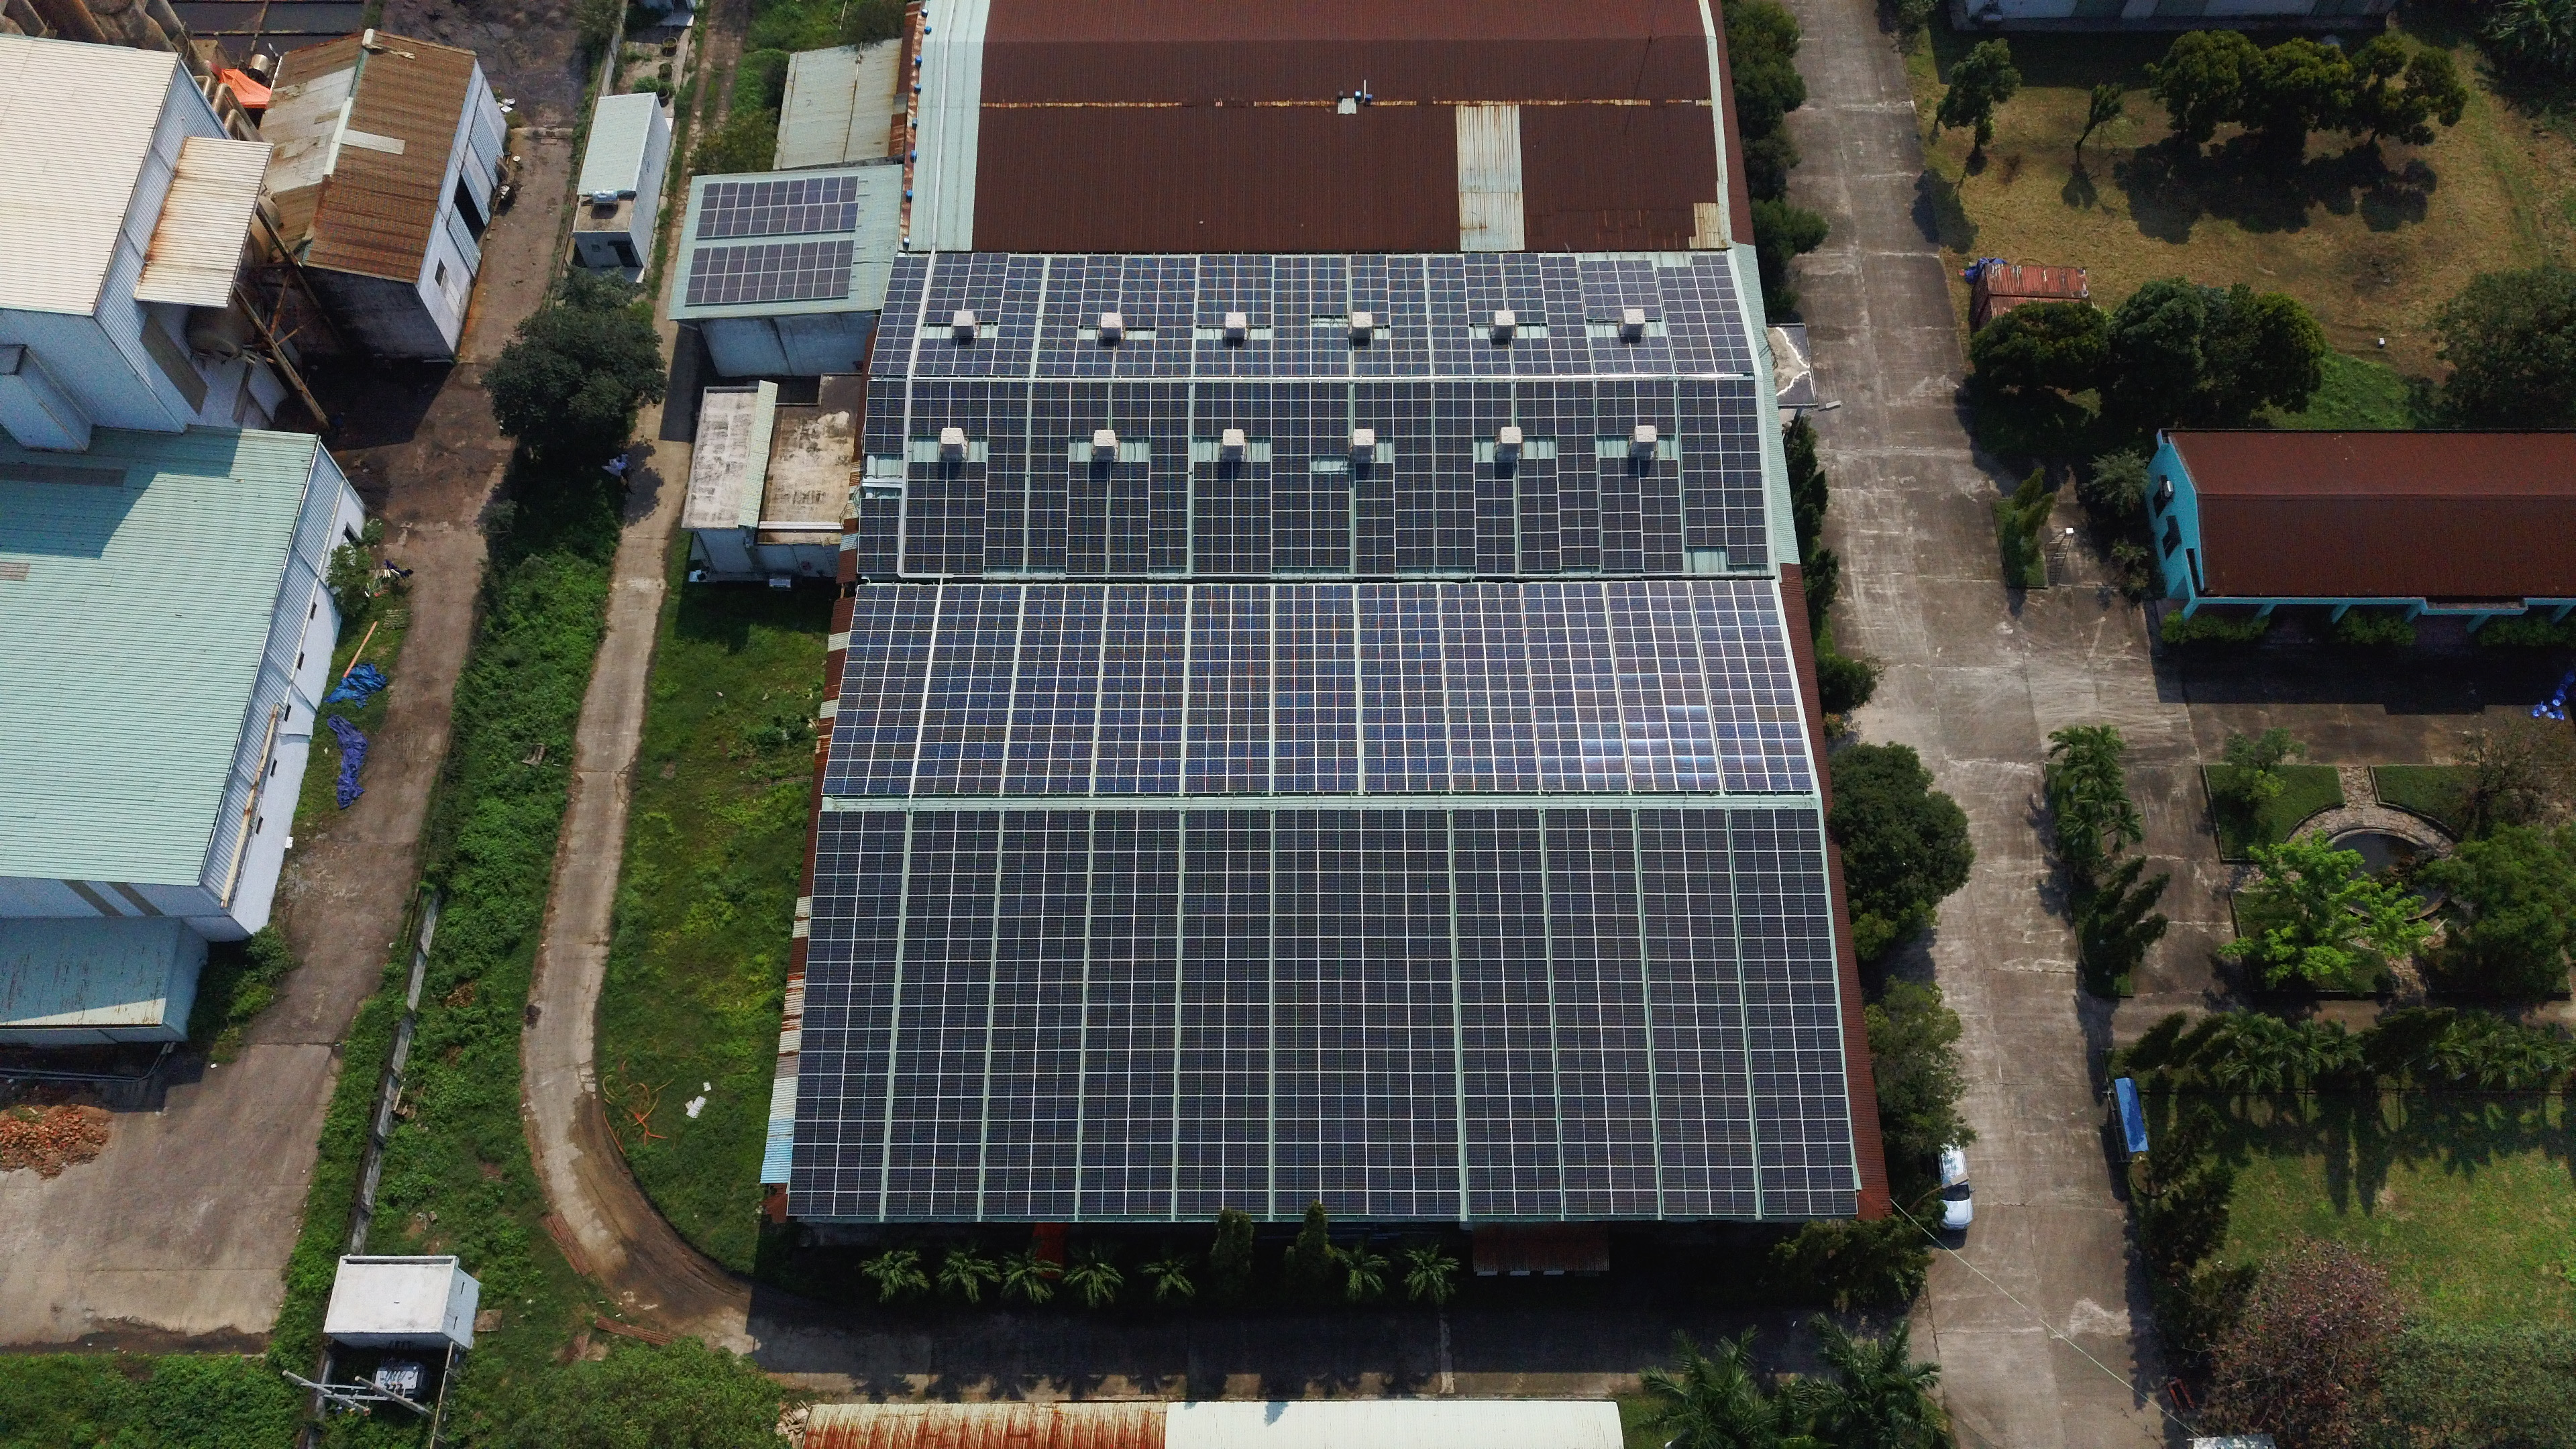solar: (1221, 1118, 1270, 1146), (1272, 1139, 1322, 1168), (1272, 1166, 1322, 1194), (1272, 1189, 1322, 1217), (1364, 1141, 1414, 1169), (1410, 1164, 1460, 1192), (1559, 1093, 1608, 1122), (1560, 1141, 1610, 1169), (801, 961, 853, 987), (839, 1072, 890, 1099), (833, 1143, 885, 1169), (833, 1166, 885, 1192), (1801, 1141, 1852, 1168), (1805, 1166, 1856, 1192), (1806, 1189, 1858, 1215), (1123, 1166, 1171, 1194), (1221, 1093, 1269, 1122), (1412, 1141, 1460, 1169), (1412, 1189, 1460, 1217), (809, 895, 858, 922), (805, 938, 855, 964), (801, 982, 851, 1008), (796, 1049, 846, 1076), (794, 1072, 844, 1099), (789, 1143, 839, 1169), (786, 1189, 835, 1215), (886, 1143, 936, 1169), (938, 1026, 987, 1053), (932, 1141, 982, 1168), (985, 1095, 1035, 1122), (984, 1118, 1033, 1145), (982, 1143, 1031, 1169), (980, 1164, 1030, 1191), (1028, 1189, 1077, 1215), (1175, 1095, 1224, 1122), (1177, 1116, 1226, 1143), (1175, 1141, 1224, 1168), (1175, 1164, 1224, 1191), (1175, 1191, 1224, 1217), (1362, 1070, 1412, 1097), (1364, 1095, 1414, 1122), (1362, 1118, 1412, 1145), (1366, 1166, 1415, 1192), (1453, 869, 1502, 895), (1460, 1049, 1509, 1076), (1465, 1164, 1514, 1191), (1467, 1189, 1516, 1215), (1552, 1001, 1601, 1028), (1555, 1024, 1605, 1051), (1555, 1047, 1605, 1074), (1557, 1070, 1606, 1097), (1559, 1116, 1608, 1143), (1560, 1162, 1610, 1189), (1560, 1189, 1610, 1215), (1658, 1143, 1707, 1169), (1760, 1189, 1810, 1215), (1796, 1072, 1845, 1099), (796, 1028, 847, 1053), (846, 961, 897, 985), (846, 982, 897, 1007), (842, 1028, 893, 1053), (840, 1049, 892, 1074), (837, 1097, 888, 1122), (835, 1122, 886, 1146), (832, 1191, 883, 1215), (1504, 1049, 1555, 1074), (1656, 1120, 1707, 1145), (1660, 1166, 1711, 1191), (1750, 1072, 1801, 1097), (1759, 1166, 1810, 1191), (1798, 1095, 1849, 1120), (888, 1118, 936, 1145), (885, 1164, 932, 1191), (934, 1118, 982, 1145), (931, 1166, 978, 1192), (998, 849, 1046, 876), (993, 936, 1040, 962), (1083, 1047, 1131, 1074), (1081, 1093, 1129, 1120), (1079, 1141, 1127, 1168), (1079, 1166, 1127, 1192), (1123, 1189, 1171, 1215), (1223, 1001, 1270, 1028), (1221, 1141, 1269, 1168), (1221, 1166, 1269, 1192), (1221, 1189, 1269, 1215), (1270, 913, 1318, 939), (1272, 934, 1320, 961), (1270, 957, 1318, 984), (1272, 1001, 1320, 1028), (1272, 1116, 1320, 1143), (1316, 980, 1364, 1007), (1316, 1024, 1364, 1051), (1318, 1118, 1366, 1145), (1320, 1164, 1368, 1191), (1318, 1189, 1366, 1215), (1366, 1191, 1414, 1217), (1405, 913, 1453, 939), (1405, 957, 1453, 984), (1407, 1003, 1454, 1030), (1451, 892, 1499, 918), (1460, 1024, 1507, 1051), (1463, 1070, 1511, 1097), (1465, 1141, 1513, 1168), (1789, 982, 1836, 1008), (810, 851, 860, 876), (810, 874, 860, 899), (807, 916, 856, 941), (798, 1007, 847, 1031), (791, 1095, 840, 1120), (791, 1118, 840, 1143), (787, 1166, 837, 1191), (853, 895, 902, 920), (851, 916, 901, 941), (849, 938, 899, 962), (844, 1005, 893, 1030), (892, 1049, 941, 1074), (938, 1049, 987, 1074), (931, 1191, 980, 1215), (985, 1074, 1035, 1099), (982, 1191, 1031, 1215), (1033, 1026, 1083, 1051), (1033, 1049, 1083, 1074), (1031, 1070, 1081, 1095), (1030, 1118, 1079, 1143), (1030, 1143, 1079, 1168), (1028, 1166, 1077, 1191), (1449, 828, 1499, 853), (1454, 913, 1504, 938), (1454, 936, 1504, 961), (1499, 936, 1548, 961), (1504, 1026, 1553, 1051), (1507, 1070, 1557, 1095), (1507, 1095, 1557, 1120), (1509, 1118, 1559, 1143), (1511, 1143, 1560, 1168), (1513, 1166, 1562, 1191), (1513, 1189, 1562, 1214), (1652, 1072, 1702, 1097), (1656, 1095, 1706, 1120), (1661, 1191, 1711, 1215), (1748, 1028, 1798, 1053), (1755, 1118, 1805, 1143), (1757, 1143, 1806, 1168), (1776, 870, 1826, 895), (1783, 936, 1833, 961), (1785, 959, 1835, 984), (1801, 1120, 1851, 1145), (993, 959, 1039, 985), (991, 1026, 1037, 1053), (1272, 1095, 1318, 1122), (1316, 1001, 1362, 1028), (1318, 1047, 1364, 1074), (1320, 1141, 1366, 1168), (899, 961, 947, 985), (897, 982, 945, 1007), (893, 1028, 941, 1053), (892, 1074, 939, 1099), (890, 1097, 938, 1122), (883, 1191, 931, 1215), (938, 1074, 985, 1099), (936, 1095, 984, 1120), (1000, 830, 1047, 855), (998, 872, 1046, 897), (996, 916, 1044, 941), (991, 982, 1039, 1007), (989, 1005, 1037, 1030), (987, 1049, 1035, 1074), (1081, 1072, 1129, 1097), (1079, 1118, 1127, 1143), (1077, 1191, 1125, 1215), (1127, 1049, 1175, 1074), (1127, 1072, 1175, 1097), (1127, 1093, 1175, 1118), (1125, 1118, 1173, 1143), (1125, 1141, 1173, 1166), (1178, 1024, 1226, 1049), (1178, 1047, 1226, 1072), (1223, 957, 1270, 982), (1224, 980, 1272, 1005), (1224, 1026, 1272, 1051), (1223, 1049, 1270, 1074), (1223, 1070, 1270, 1095), (1272, 980, 1320, 1005), (1272, 1047, 1320, 1072), (1270, 1070, 1318, 1095), (1316, 957, 1364, 982), (1318, 1072, 1366, 1097), (1318, 1093, 1366, 1118), (1362, 1003, 1410, 1028), (1405, 936, 1453, 961), (1405, 980, 1453, 1005), (1407, 1026, 1454, 1051), (1408, 1047, 1456, 1072), (1408, 1072, 1456, 1097), (1410, 1095, 1458, 1120), (1410, 1118, 1458, 1143), (1451, 849, 1499, 874), (1456, 957, 1504, 982), (1458, 980, 1506, 1005), (1458, 1003, 1506, 1028), (1463, 1097, 1511, 1122), (1463, 1118, 1511, 1143), (1499, 913, 1546, 938), (1548, 913, 1596, 938), (1548, 936, 1596, 961), (1552, 957, 1599, 982), (1552, 980, 1599, 1005), (1594, 936, 1642, 961), (1596, 957, 1644, 982), (1596, 980, 1644, 1005), (1598, 1003, 1645, 1028), (1601, 1049, 1649, 1074), (1603, 1095, 1651, 1120), (1606, 1141, 1654, 1166), (1610, 1164, 1658, 1189), (1610, 1189, 1658, 1214), (1644, 915, 1691, 939), (1645, 936, 1693, 961), (1645, 957, 1693, 982), (1647, 980, 1695, 1005), (1649, 1005, 1697, 1030), (1652, 1049, 1700, 1074), (1697, 1028, 1744, 1053), (1698, 1049, 1746, 1074), (1700, 1072, 1748, 1097), (1704, 1118, 1752, 1143), (1706, 1143, 1753, 1168), (1706, 1166, 1753, 1191), (1707, 1191, 1755, 1215), (1780, 893, 1828, 918), (1782, 913, 1829, 938), (1790, 1003, 1838, 1028), (1792, 1026, 1840, 1051), (1796, 1051, 1844, 1076), (1736, 916, 1787, 939), (1741, 959, 1792, 982), (1743, 982, 1794, 1005), (1748, 1051, 1799, 1074), (1752, 1095, 1803, 1118), (816, 810, 865, 833), (814, 832, 863, 855), (858, 810, 908, 833), (858, 832, 908, 855), (855, 874, 904, 897), (909, 810, 959, 833), (908, 830, 957, 853), (904, 853, 954, 876), (904, 874, 954, 897), (902, 893, 952, 916), (952, 810, 1001, 833), (952, 830, 1001, 853), (950, 872, 1000, 895), (947, 895, 996, 918), (945, 938, 994, 961), (943, 962, 993, 985), (941, 984, 991, 1007), (941, 1005, 991, 1028), (996, 893, 1042, 918), (1035, 959, 1085, 982), (1035, 982, 1085, 1005), (1035, 1005, 1085, 1028), (1031, 1097, 1081, 1120), (1088, 892, 1134, 916), (1088, 915, 1134, 939), (1086, 936, 1132, 961), (1086, 959, 1132, 984), (1085, 982, 1131, 1007), (1085, 1005, 1131, 1030), (1085, 1026, 1131, 1051), (1180, 936, 1226, 961), (1180, 1003, 1226, 1028), (1272, 1024, 1318, 1049), (1361, 936, 1410, 959), (1361, 980, 1410, 1003), (1362, 1049, 1412, 1072), (1594, 913, 1640, 938), (1652, 1026, 1698, 1051), (1702, 1093, 1748, 1118), (1734, 893, 1783, 916), (1739, 938, 1789, 961), (1744, 1005, 1794, 1028), (1403, 738, 1451, 761), (1536, 754, 1583, 777), (1537, 771, 1585, 794), (902, 916, 950, 939), (899, 938, 947, 961), (897, 1007, 945, 1030), (947, 916, 994, 939), (1001, 810, 1049, 833), (1040, 874, 1088, 897), (1039, 938, 1086, 961), (1092, 809, 1139, 832), (1129, 982, 1177, 1005), (1127, 1026, 1175, 1049), (1182, 810, 1230, 833), (1180, 893, 1228, 916), (1178, 982, 1226, 1005), (1177, 1072, 1224, 1095), (1224, 830, 1272, 853), (1223, 893, 1270, 916), (1315, 872, 1362, 895), (1359, 828, 1407, 851), (1361, 893, 1408, 916), (1361, 915, 1408, 938), (1361, 961, 1408, 984), (1362, 1026, 1410, 1049), (1403, 872, 1451, 895), (1405, 893, 1453, 916), (1497, 893, 1545, 916), (1500, 959, 1548, 982), (1500, 982, 1548, 1005), (1504, 1005, 1552, 1028), (1545, 849, 1592, 872), (1546, 892, 1594, 915), (1587, 849, 1635, 872), (1592, 893, 1640, 916), (1599, 1026, 1647, 1049), (1603, 1074, 1651, 1097), (1605, 1120, 1652, 1143), (1638, 851, 1686, 874), (1640, 870, 1688, 893), (1732, 849, 1780, 872), (1044, 830, 1090, 853), (1039, 915, 1085, 938), (1092, 830, 1138, 853), (1132, 938, 1178, 961), (1182, 830, 1228, 853), (1182, 851, 1228, 874), (1180, 870, 1226, 893), (1180, 915, 1226, 938), (1180, 957, 1226, 980), (1226, 849, 1272, 872), (1274, 872, 1320, 895), (1272, 893, 1318, 916), (1316, 830, 1362, 853), (1316, 849, 1362, 872), (1318, 893, 1364, 916), (1318, 938, 1364, 961), (1361, 851, 1407, 874), (1361, 874, 1407, 897), (1638, 830, 1684, 853), (1642, 893, 1688, 916), (1688, 893, 1734, 916), (1690, 938, 1736, 961), (1691, 959, 1737, 982), (1695, 1003, 1741, 1026), (1730, 830, 1776, 853), (1775, 830, 1821, 853), (1474, 494, 1516, 518), (1718, 752, 1767, 773), (1721, 771, 1771, 793), (1764, 771, 1813, 793), (855, 853, 904, 874), (950, 853, 1000, 874), (1405, 755, 1453, 777), (1629, 773, 1677, 794), (1707, 686, 1755, 708), (1711, 704, 1759, 725), (1713, 720, 1760, 741), (1716, 738, 1764, 759), (1752, 704, 1799, 725), (1762, 754, 1810, 775), (1044, 810, 1092, 832), (1044, 853, 1092, 874), (1040, 895, 1088, 916), (1090, 851, 1138, 872), (1088, 872, 1136, 893), (1134, 809, 1182, 830), (1132, 830, 1180, 851), (1132, 853, 1180, 874), (1132, 872, 1180, 893), (1224, 809, 1272, 830), (1224, 872, 1272, 893), (1224, 915, 1272, 936), (1224, 938, 1272, 959), (1272, 810, 1320, 832), (1272, 830, 1320, 851), (1315, 809, 1362, 830), (1316, 916, 1364, 938), (1359, 809, 1407, 830), (1449, 809, 1497, 830), (1493, 809, 1541, 830), (1495, 851, 1543, 872), (1497, 872, 1545, 893), (1543, 809, 1591, 830), (1546, 872, 1594, 893), (1585, 809, 1633, 830), (1587, 828, 1635, 849), (1637, 809, 1684, 830), (1679, 809, 1727, 830), (1686, 872, 1734, 893), (1688, 916, 1736, 938), (1729, 809, 1776, 830), (1776, 851, 1824, 872), (908, 396, 950, 419), (856, 533, 899, 556), (855, 552, 897, 575), (904, 460, 947, 483), (947, 416, 989, 439), (941, 552, 984, 575), (985, 416, 1028, 439), (1028, 396, 1070, 419), (1024, 525, 1067, 548), (1069, 398, 1111, 421), (1069, 416, 1111, 439), (1065, 533, 1108, 556), (1065, 552, 1108, 575), (1108, 416, 1150, 439), (1108, 460, 1150, 483), (1146, 416, 1189, 439), (1146, 471, 1189, 494), (1146, 508, 1189, 531), (1145, 525, 1187, 548), (1191, 396, 1233, 419), (1191, 416, 1233, 439), (1191, 550, 1233, 573), (1230, 380, 1272, 403), (1230, 398, 1272, 421), (1231, 416, 1274, 439), (1230, 513, 1272, 536), (1270, 508, 1313, 531), (1270, 527, 1313, 550), (1307, 380, 1350, 403), (1307, 398, 1350, 421), (1307, 433, 1350, 456), (1309, 508, 1352, 531), (1309, 527, 1352, 550), (1352, 478, 1394, 501), (1353, 497, 1396, 520), (1353, 515, 1396, 538), (1353, 533, 1396, 556), (1472, 396, 1514, 419), (1474, 515, 1516, 538), (1474, 552, 1516, 575), (1557, 471, 1599, 494), (1557, 488, 1599, 511), (1559, 508, 1601, 531), (915, 757, 961, 778), (911, 773, 957, 794), (1529, 656, 1575, 678), (1529, 672, 1575, 694), (1622, 720, 1668, 741), (1628, 755, 1674, 777), (1672, 755, 1718, 777), (1737, 623, 1783, 644), (1744, 655, 1790, 676), (1757, 720, 1803, 741), (1132, 895, 1178, 916), (1132, 918, 1178, 939), (1131, 959, 1177, 980), (1129, 1005, 1175, 1026), (1272, 851, 1318, 872), (1403, 809, 1449, 830), (1403, 830, 1449, 851), (1405, 851, 1451, 872), (1495, 830, 1541, 851), (1545, 830, 1591, 851), (1591, 872, 1637, 893), (1683, 830, 1729, 851), (1684, 851, 1730, 872), (1693, 982, 1739, 1003), (1736, 872, 1782, 893), (1773, 809, 1819, 830), (823, 759, 872, 778), (819, 777, 869, 796), (1757, 738, 1806, 757), (1228, 612, 1272, 633), (1226, 642, 1270, 663), (1228, 658, 1272, 679), (1226, 740, 1270, 761), (1525, 626, 1569, 648), (989, 396, 1030, 419), (984, 488, 1024, 511), (1028, 433, 1069, 456), (1028, 490, 1069, 513), (1109, 380, 1150, 403), (1111, 398, 1152, 421), (1108, 534, 1148, 557), (1148, 380, 1189, 403), (1231, 533, 1272, 556), (1270, 416, 1311, 439), (1270, 471, 1311, 494), (1270, 545, 1311, 568), (1309, 490, 1350, 513), (1309, 545, 1350, 568), (1353, 396, 1394, 419), (1353, 418, 1394, 441), (1353, 460, 1394, 483), (1355, 554, 1396, 577), (1392, 398, 1433, 421), (1392, 416, 1433, 439), (1394, 490, 1435, 513), (1394, 527, 1435, 550), (1433, 396, 1474, 419), (1433, 416, 1474, 439), (1433, 471, 1474, 494), (1435, 508, 1476, 531), (1435, 525, 1476, 548), (1437, 545, 1477, 568), (1476, 534, 1516, 557), (1514, 396, 1555, 419), (1560, 527, 1601, 550), (1683, 469, 1723, 492), (837, 676, 885, 695), (835, 692, 883, 711), (826, 741, 874, 761), (863, 775, 911, 794), (1449, 757, 1497, 777), (1583, 773, 1631, 793), (1658, 672, 1706, 692), (1674, 773, 1721, 793), (908, 379, 950, 400), (862, 433, 904, 455), (908, 418, 950, 439), (858, 497, 901, 518), (856, 515, 899, 536), (904, 478, 947, 499), (904, 497, 947, 518), (904, 515, 947, 536), (902, 536, 945, 557), (902, 554, 945, 575), (945, 460, 987, 481), (945, 479, 987, 501), (943, 497, 985, 518), (943, 517, 985, 538), (943, 534, 985, 556), (948, 379, 991, 400), (985, 433, 1028, 455), (985, 453, 1028, 474), (984, 527, 1026, 548), (982, 545, 1024, 566), (1026, 453, 1069, 474), (1026, 508, 1069, 529), (1024, 547, 1067, 568), (1069, 380, 1111, 402), (1067, 460, 1109, 481), (1065, 478, 1108, 499), (1065, 495, 1108, 517), (1065, 515, 1108, 536), (1108, 478, 1150, 499), (1106, 517, 1148, 538), (1148, 398, 1191, 419), (1148, 435, 1191, 456), (1146, 453, 1189, 474), (1146, 490, 1189, 511), (1192, 460, 1235, 481), (1192, 495, 1235, 517), (1191, 515, 1233, 536), (1191, 534, 1233, 556), (1231, 478, 1274, 499), (1230, 552, 1272, 573), (1270, 380, 1313, 402), (1269, 435, 1311, 456), (1307, 418, 1350, 439), (1518, 494, 1560, 515), (1555, 453, 1598, 474), (1599, 492, 1642, 513), (1601, 511, 1644, 533), (1601, 548, 1644, 570), (1640, 533, 1683, 554), (1683, 488, 1725, 510), (1684, 525, 1727, 547), (1716, 395, 1759, 416), (1716, 414, 1759, 435), (1718, 432, 1760, 453), (1720, 451, 1762, 472), (1721, 469, 1764, 490), (1723, 506, 1766, 527), (1725, 525, 1767, 547), (1230, 596, 1272, 617), (865, 377, 904, 400), (1394, 433, 1433, 456), (1394, 453, 1433, 476), (1433, 379, 1472, 402), (1433, 435, 1472, 458), (1435, 451, 1474, 474), (1435, 490, 1474, 513), (846, 630, 892, 649), (840, 660, 886, 679), (830, 725, 876, 745), (885, 644, 931, 663), (927, 660, 973, 679), (920, 708, 966, 727), (918, 724, 964, 743), (916, 741, 962, 761), (966, 676, 1012, 695), (964, 692, 1010, 711), (959, 741, 1005, 761), (1021, 582, 1067, 602), (1019, 598, 1065, 617), (1014, 660, 1060, 679), (1046, 757, 1092, 777), (1104, 582, 1150, 602), (1143, 584, 1189, 603), (1143, 598, 1189, 617), (1143, 628, 1189, 648), (1407, 773, 1453, 793), (1449, 738, 1495, 757), (1451, 775, 1497, 794), (1490, 740, 1536, 759), (1522, 610, 1568, 630), (1530, 688, 1576, 708), (1532, 706, 1578, 725), (1534, 722, 1580, 741), (1536, 738, 1582, 757), (1575, 706, 1621, 725), (1582, 754, 1628, 773), (1614, 656, 1660, 676), (1615, 672, 1661, 692), (1619, 688, 1665, 708), (1621, 706, 1667, 725), (1626, 738, 1672, 757), (1663, 704, 1709, 724), (1704, 655, 1750, 674), (1706, 672, 1752, 692), (1729, 579, 1775, 598), (1741, 640, 1787, 660), (1746, 672, 1792, 692), (1750, 688, 1796, 708), (950, 380, 991, 402), (989, 379, 1030, 400), (985, 471, 1026, 492), (984, 508, 1024, 529), (1030, 380, 1070, 402), (1028, 416, 1069, 437), (1026, 472, 1067, 494), (1108, 495, 1148, 517), (1106, 552, 1146, 573), (1192, 380, 1233, 402), (1192, 478, 1233, 499), (1231, 460, 1272, 481), (1231, 497, 1272, 518), (1270, 398, 1311, 419), (1272, 455, 1313, 476), (1270, 490, 1311, 511), (1309, 472, 1350, 494), (1353, 380, 1394, 402), (1392, 380, 1433, 402), (1392, 472, 1433, 494), (1394, 510, 1435, 531), (1396, 547, 1437, 568), (1472, 416, 1513, 437), (1474, 460, 1514, 481), (1474, 479, 1514, 501), (1516, 416, 1557, 437), (1516, 456, 1557, 478), (1518, 476, 1559, 497), (1518, 513, 1559, 534), (1520, 531, 1560, 552), (1520, 550, 1560, 571), (1555, 416, 1596, 437), (1560, 547, 1601, 568), (1635, 396, 1675, 418), (1644, 550, 1684, 571), (1677, 377, 1718, 398), (1716, 379, 1757, 400), (1727, 545, 1767, 566), (849, 614, 893, 633), (844, 644, 888, 663), (895, 582, 939, 602), (890, 614, 934, 633), (888, 628, 932, 648), (878, 692, 922, 711), (870, 741, 915, 761), (938, 584, 982, 603), (936, 614, 980, 633), (931, 644, 975, 663), (927, 676, 971, 695), (978, 582, 1023, 602), (977, 600, 1021, 619), (975, 614, 1019, 633), (971, 644, 1016, 663), (970, 658, 1014, 678), (957, 757, 1001, 777), (955, 775, 1000, 794), (1019, 614, 1063, 633), (1017, 628, 1062, 648), (1010, 692, 1054, 711), (1008, 724, 1053, 743), (1005, 741, 1049, 761), (1063, 582, 1108, 602), (1062, 596, 1106, 616), (1093, 775, 1138, 794), (1143, 614, 1187, 633), (1141, 644, 1185, 663), (1141, 660, 1185, 679), (1139, 674, 1184, 694), (1139, 692, 1184, 711), (1139, 708, 1184, 727), (1138, 724, 1182, 743), (1138, 741, 1182, 761), (1136, 757, 1180, 777), (1136, 775, 1180, 794), (1189, 582, 1233, 602), (1189, 596, 1233, 616), (1189, 614, 1233, 633), (1187, 628, 1231, 648), (1187, 644, 1231, 663), (1187, 660, 1231, 679), (1187, 676, 1231, 695), (1185, 692, 1230, 711), (1185, 708, 1230, 727), (1184, 724, 1228, 743), (1184, 740, 1228, 759), (1184, 757, 1228, 777), (1182, 773, 1226, 793), (1228, 584, 1272, 603), (1228, 628, 1272, 648), (1226, 676, 1270, 695), (1226, 692, 1270, 711), (1226, 724, 1270, 743), (1272, 628, 1316, 648), (1272, 692, 1316, 711), (1272, 740, 1316, 759), (1272, 757, 1316, 777), (1311, 628, 1355, 648), (1313, 706, 1357, 725), (1355, 596, 1399, 616), (1357, 642, 1401, 662), (1399, 658, 1444, 678), (1399, 674, 1444, 694), (1440, 612, 1484, 632), (1447, 722, 1491, 741), (1479, 612, 1523, 632), (1484, 672, 1529, 692), (1486, 690, 1530, 709), (1488, 706, 1532, 725), (1490, 722, 1534, 741), (1493, 755, 1537, 775), (1493, 773, 1537, 793), (1527, 640, 1571, 660), (1576, 722, 1621, 741), (1580, 738, 1624, 757), (1605, 580, 1649, 600), (1645, 580, 1690, 600), (1647, 594, 1691, 614), (1652, 625, 1697, 644), (1690, 579, 1734, 598), (1691, 594, 1736, 614), (1697, 625, 1741, 644), (1736, 609, 1780, 628), (832, 709, 879, 727), (1660, 688, 1707, 706), (867, 379, 906, 400), (865, 414, 904, 435), (1474, 380, 1513, 402), (1516, 379, 1555, 400), (1596, 398, 1635, 419), (1598, 458, 1640, 478), (1596, 476, 1638, 495), (1601, 531, 1644, 550), (1640, 476, 1679, 497), (1638, 495, 1681, 515), (1640, 513, 1683, 533), (1679, 414, 1718, 435), (1683, 451, 1721, 472), (1684, 508, 1727, 527), (1723, 488, 1766, 508), (1226, 706, 1269, 725), (1226, 757, 1269, 777), (1226, 773, 1269, 793), (1270, 596, 1313, 616), (1272, 612, 1315, 632), (1272, 642, 1315, 662), (1272, 706, 1315, 725), (1272, 724, 1315, 743), (1313, 582, 1355, 602), (1315, 674, 1357, 694), (1357, 580, 1399, 600), (1357, 612, 1399, 632), (1359, 674, 1401, 694), (1361, 722, 1403, 741), (1362, 738, 1405, 757), (1362, 755, 1405, 775), (1396, 582, 1438, 602), (1398, 612, 1440, 632), (1398, 626, 1440, 646), (1399, 642, 1442, 662), (1403, 706, 1445, 725), (1438, 580, 1481, 600), (1438, 596, 1481, 616), (1444, 640, 1486, 660), (1444, 658, 1486, 678), (1444, 674, 1486, 694), (1477, 580, 1520, 600), (1479, 596, 1522, 616), (1483, 630, 1525, 649), (1483, 642, 1525, 662), (1520, 580, 1562, 600), (1564, 610, 1606, 630), (1566, 628, 1608, 648), (1568, 642, 1610, 662), (1573, 672, 1615, 692), (1575, 690, 1617, 709), (851, 600, 897, 617), (892, 598, 938, 616), (883, 662, 929, 679), (879, 678, 925, 695), (876, 708, 922, 725), (867, 759, 913, 777), (924, 692, 970, 709), (962, 709, 1008, 727), (1104, 600, 1150, 617), (1401, 724, 1447, 741), (1610, 626, 1656, 644), (1656, 656, 1702, 674), (1667, 722, 1713, 740), (1668, 740, 1714, 757), (1700, 640, 1746, 658), (706, 241, 729, 276), (1146, 547, 1187, 566), (1553, 379, 1594, 398), (1553, 398, 1594, 418), (1555, 435, 1596, 455), (1596, 416, 1637, 435), (1635, 379, 1675, 398), (1637, 414, 1677, 433), (1677, 396, 1718, 416), (1679, 433, 1720, 453), (736, 271, 761, 303), (755, 271, 780, 303), (775, 269, 800, 301), (793, 269, 817, 301), (855, 584, 899, 602), (874, 725, 918, 743), (936, 598, 980, 616), (932, 630, 977, 648), (973, 630, 1017, 648), (961, 725, 1005, 743), (1016, 644, 1060, 662), (1012, 676, 1056, 694), (1008, 709, 1053, 727), (1003, 759, 1047, 777), (1003, 777, 1047, 794), (1060, 614, 1104, 632), (1058, 630, 1102, 648), (1058, 646, 1102, 663), (1054, 660, 1099, 678), (1054, 678, 1099, 695), (1054, 692, 1099, 709), (1051, 708, 1095, 725), (1051, 725, 1095, 743), (1049, 741, 1093, 759), (1046, 777, 1090, 794), (1104, 614, 1148, 632), (1102, 630, 1146, 648), (1100, 644, 1145, 662), (1100, 660, 1145, 678), (1099, 676, 1143, 694), (1099, 694, 1143, 711), (1097, 709, 1141, 727), (1095, 741, 1139, 759), (1093, 759, 1138, 777), (1272, 584, 1316, 602), (1272, 660, 1316, 678), (1272, 773, 1316, 791), (1311, 614, 1355, 632), (1560, 580, 1605, 598), (1606, 596, 1651, 614), (1608, 610, 1652, 628), (1612, 640, 1656, 658), (1693, 610, 1737, 628), (1732, 594, 1776, 612), (1596, 379, 1635, 398), (1638, 458, 1677, 478), (1274, 674, 1316, 692), (1313, 598, 1355, 616), (1313, 644, 1355, 662), (1315, 660, 1357, 678), (1315, 690, 1357, 708), (1315, 724, 1357, 741), (1315, 740, 1357, 757), (1315, 757, 1357, 775), (1315, 775, 1357, 793), (1357, 628, 1399, 646), (1359, 658, 1401, 676), (1361, 692, 1403, 709), (1361, 708, 1403, 725), (1362, 773, 1405, 791), (1398, 596, 1440, 614), (1401, 690, 1444, 708), (1440, 628, 1483, 646), (1445, 690, 1488, 708), (1447, 708, 1490, 725), (1484, 658, 1527, 676), (1523, 596, 1566, 614), (1562, 596, 1605, 614), (1569, 658, 1612, 676), (1651, 610, 1693, 628), (1654, 642, 1697, 660), (701, 272, 725, 303), (720, 272, 745, 303), (810, 269, 835, 299), (688, 244, 711, 276), (778, 241, 801, 272), (796, 241, 819, 272), (683, 274, 706, 306), (830, 267, 853, 299), (1548, 334, 1589, 352), (1706, 322, 1746, 340), (1097, 725, 1141, 741), (694, 209, 717, 239), (711, 207, 734, 237), (729, 207, 752, 237), (747, 205, 770, 235), (766, 205, 789, 235), (784, 203, 807, 234), (801, 203, 824, 234), (819, 202, 842, 232), (835, 202, 858, 232), (741, 244, 764, 274), (816, 239, 839, 269), (1552, 347, 1591, 364), (1513, 361, 1555, 377), (1582, 292, 1624, 308), (1591, 347, 1633, 363), (1592, 359, 1635, 375), (1713, 357, 1755, 373), (725, 244, 747, 276), (761, 242, 782, 274), (1513, 349, 1553, 364), (1552, 361, 1592, 377), (1628, 334, 1668, 350), (1633, 359, 1674, 375), (734, 180, 755, 211), (752, 179, 773, 209), (768, 177, 789, 207), (786, 177, 807, 207), (833, 239, 855, 269), (869, 359, 908, 375), (1350, 287, 1389, 303), (1353, 349, 1392, 364), (1387, 290, 1426, 306), (1389, 301, 1428, 317), (1391, 336, 1430, 352), (1385, 253, 1424, 269), (1428, 288, 1467, 304), (1433, 349, 1472, 364), (1433, 361, 1472, 377), (1468, 310, 1507, 326), (1543, 288, 1582, 304), (1578, 258, 1617, 274), (1589, 336, 1631, 350), (1698, 299, 1741, 313), (1709, 347, 1752, 361), (701, 182, 722, 211), (717, 180, 738, 209), (801, 177, 823, 205), (819, 175, 840, 203), (837, 173, 858, 202), (1350, 264, 1387, 280), (1353, 336, 1391, 352), (1353, 361, 1391, 377), (1391, 326, 1428, 341), (1472, 349, 1509, 364), (1502, 251, 1539, 267), (1504, 264, 1541, 280), (1541, 253, 1578, 269), (1546, 299, 1583, 315), (1506, 310, 1546, 324), (1511, 336, 1552, 350), (1546, 326, 1587, 340), (1614, 258, 1654, 272), (1617, 269, 1658, 283), (1619, 281, 1660, 295), (1621, 294, 1661, 308), (1622, 304, 1663, 318), (1631, 347, 1672, 361), (1663, 299, 1704, 313), (1665, 311, 1706, 326), (1667, 322, 1707, 336), (1670, 336, 1711, 350), (1672, 347, 1713, 361), (1675, 359, 1716, 373), (1702, 311, 1743, 326), (1707, 334, 1748, 349), (892, 255, 931, 269), (890, 265, 929, 280), (888, 278, 927, 292), (885, 288, 924, 303), (881, 301, 920, 315), (879, 313, 918, 327), (878, 326, 916, 340), (874, 336, 913, 350), (872, 349, 911, 363), (934, 251, 973, 265), (932, 264, 971, 278), (931, 274, 970, 288), (925, 297, 964, 311), (924, 310, 962, 324), (918, 336, 957, 350), (916, 349, 955, 363), (915, 361, 954, 375), (971, 251, 1010, 265), (970, 264, 1008, 278), (966, 274, 1005, 288), (964, 285, 1003, 299), (962, 295, 1001, 310), (955, 349, 994, 363), (961, 308, 1000, 322), (955, 334, 994, 349), (952, 361, 991, 375), (1007, 255, 1046, 269), (1005, 265, 1044, 280), (1003, 278, 1042, 292), (1001, 288, 1040, 303), (1000, 299, 1039, 313), (1000, 313, 1039, 327), (996, 324, 1035, 338), (994, 336, 1033, 350), (994, 349, 1033, 363), (991, 361, 1030, 375), (1049, 253, 1088, 267), (1046, 278, 1085, 292), (1044, 288, 1083, 303), (1042, 301, 1081, 315), (1040, 313, 1079, 327), (1039, 338, 1077, 352), (1037, 349, 1076, 363), (1035, 361, 1074, 375), (1085, 253, 1123, 267), (1083, 265, 1122, 280), (1083, 276, 1122, 290), (1081, 288, 1120, 303), (1081, 299, 1120, 313), (1077, 313, 1116, 327), (1076, 338, 1115, 352), (1074, 350, 1113, 364), (1074, 361, 1113, 375), (1122, 255, 1161, 269), (1120, 267, 1159, 281), (1120, 278, 1159, 292), (1120, 288, 1159, 303), (1118, 301, 1157, 315), (1118, 313, 1157, 327), (1116, 336, 1155, 350), (1116, 350, 1155, 364), (1115, 363, 1154, 377), (1159, 255, 1198, 269), (1159, 267, 1198, 281), (1157, 278, 1196, 292), (1157, 290, 1196, 304), (1155, 301, 1194, 315), (1155, 313, 1194, 327), (1155, 326, 1194, 340), (1154, 336, 1192, 350), (1154, 350, 1192, 364), (1154, 363, 1192, 377), (1200, 253, 1238, 267), (1198, 265, 1237, 280), (1198, 276, 1237, 290), (1196, 288, 1235, 303), (1194, 349, 1233, 363), (1194, 297, 1233, 311), (1196, 311, 1235, 326), (1194, 336, 1233, 350), (1192, 363, 1231, 377), (1235, 253, 1274, 267), (1235, 265, 1274, 280), (1233, 276, 1272, 290), (1235, 287, 1274, 301), (1233, 299, 1272, 313), (1233, 311, 1272, 326), (1233, 338, 1272, 352), (1233, 350, 1272, 364), (1233, 361, 1272, 375), (1272, 255, 1311, 269), (1272, 267, 1311, 281), (1272, 288, 1311, 303), (1272, 278, 1311, 292), (1274, 303, 1313, 317), (1272, 313, 1311, 327), (1272, 326, 1311, 340), (1272, 338, 1311, 352), (1272, 350, 1311, 364), (1272, 361, 1311, 375), (1309, 255, 1348, 269), (1311, 267, 1350, 281), (1309, 278, 1348, 292), (1309, 290, 1348, 304), (1311, 303, 1350, 317), (1309, 326, 1348, 340), (1311, 336, 1350, 350), (1311, 350, 1350, 364), (1311, 363, 1350, 377), (1350, 276, 1389, 290), (1352, 299, 1391, 313), (1352, 311, 1391, 326), (1428, 255, 1467, 269), (1389, 313, 1428, 327), (1391, 350, 1430, 364), (1391, 363, 1430, 377), (1430, 301, 1468, 315), (1430, 313, 1468, 327), (1430, 324, 1468, 338), (1430, 336, 1468, 350), (1463, 253, 1502, 267), (1463, 264, 1502, 278), (1465, 274, 1504, 288), (1465, 287, 1504, 301), (1467, 299, 1506, 313), (1470, 336, 1509, 350), (1472, 361, 1511, 375), (1504, 274, 1543, 288), (1506, 287, 1545, 301), (1546, 313, 1585, 327), (1580, 271, 1619, 285), (1585, 306, 1624, 320), (1658, 265, 1697, 280), (1658, 276, 1697, 290), (1660, 288, 1698, 303), (1690, 253, 1729, 267), (1691, 264, 1730, 278), (1695, 276, 1734, 290), (1697, 287, 1736, 301), (1350, 253, 1387, 267), (1387, 255, 1424, 269), (1387, 278, 1424, 292), (1428, 267, 1465, 281), (1428, 278, 1465, 292), (1507, 297, 1545, 311), (1541, 267, 1578, 281), (1543, 278, 1580, 292), (1582, 283, 1622, 295), (927, 287, 966, 299), (1047, 267, 1086, 280), (1040, 326, 1079, 338)
